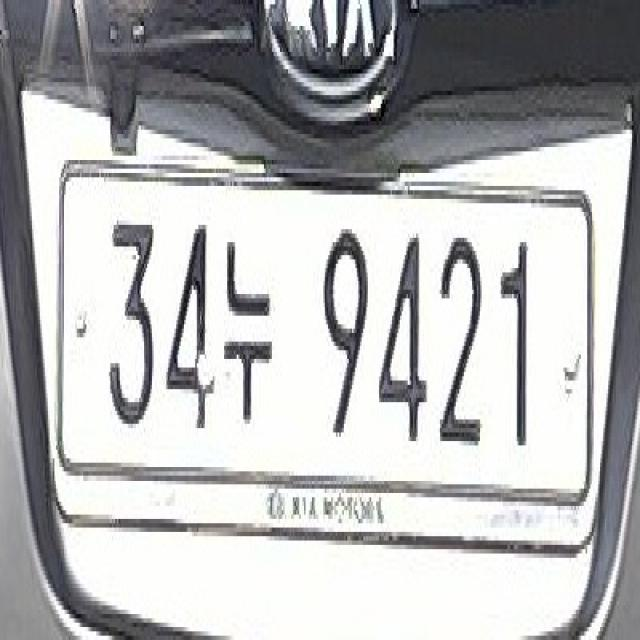1: (494, 234, 530, 454)
2: (437, 225, 485, 445)
3: (112, 217, 157, 432)
4: (165, 212, 214, 432), (379, 234, 427, 441)
9: (322, 216, 368, 437)
license_plate: (58, 152, 595, 514)
nu: (226, 242, 274, 424)
